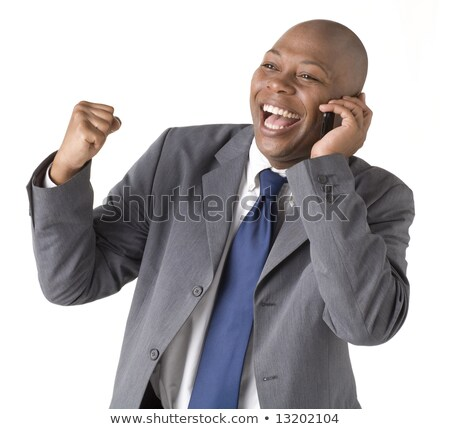phone: (319, 93, 374, 140)
talk: (250, 49, 387, 156)
